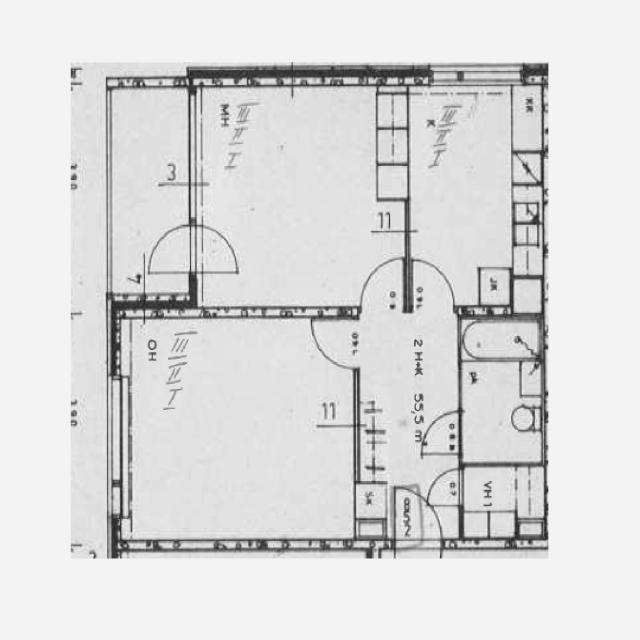door: (187, 220, 245, 282), (304, 312, 360, 373), (404, 250, 457, 314), (358, 251, 410, 314), (145, 221, 198, 280), (390, 484, 435, 552), (418, 407, 464, 460), (424, 466, 468, 512)
window: (100, 364, 134, 499), (178, 84, 210, 200), (422, 64, 520, 92)
zone: (115, 315, 360, 557), (191, 80, 410, 316), (404, 82, 544, 316), (110, 74, 195, 312), (354, 305, 461, 473), (461, 318, 544, 468), (461, 464, 546, 544), (188, 219, 245, 283), (392, 488, 427, 547)
